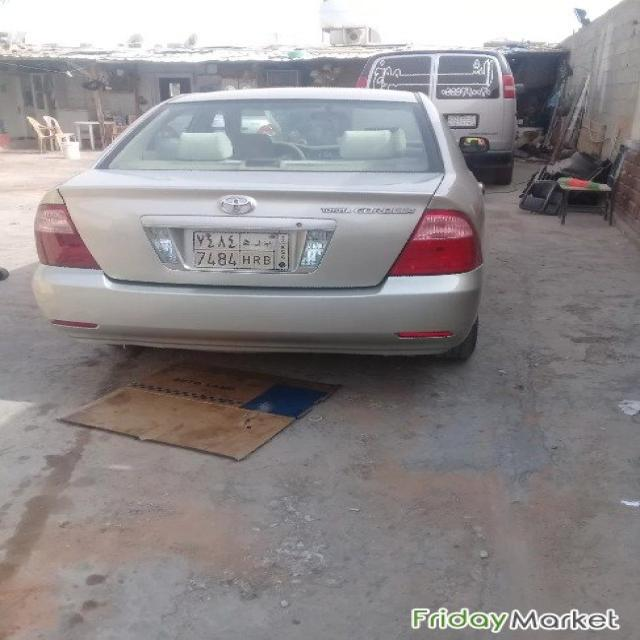license_plate: (192, 229, 292, 272)
